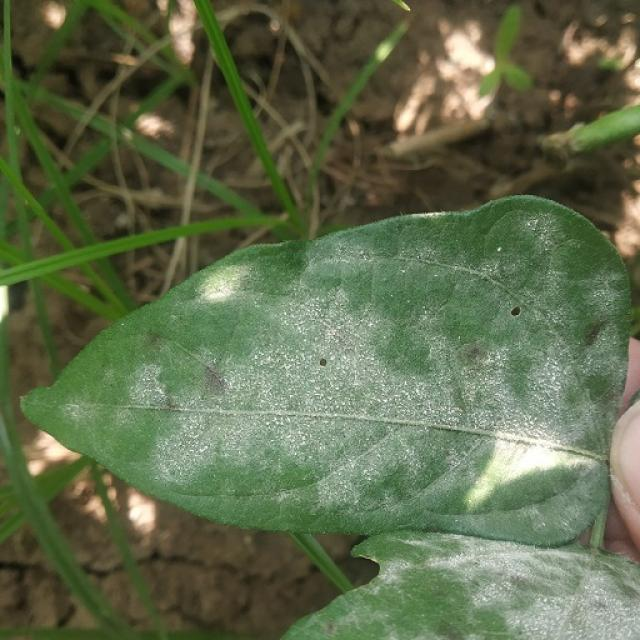Blackgram: (21, 196, 628, 546)
Powdery_Mildew: (138, 402, 377, 497), (263, 292, 406, 397), (291, 413, 443, 499), (463, 434, 601, 511), (407, 583, 533, 639), (498, 211, 576, 258), (37, 393, 110, 442), (195, 261, 250, 306), (129, 367, 175, 409), (128, 364, 171, 408), (582, 367, 617, 408), (613, 476, 640, 529), (216, 482, 279, 499), (54, 401, 88, 424), (203, 365, 227, 393), (583, 321, 605, 345), (509, 574, 533, 591), (434, 621, 459, 637), (464, 345, 485, 363), (143, 330, 163, 347), (592, 599, 608, 612), (325, 623, 336, 635), (400, 268, 407, 274), (496, 247, 502, 252), (121, 322, 126, 328)
